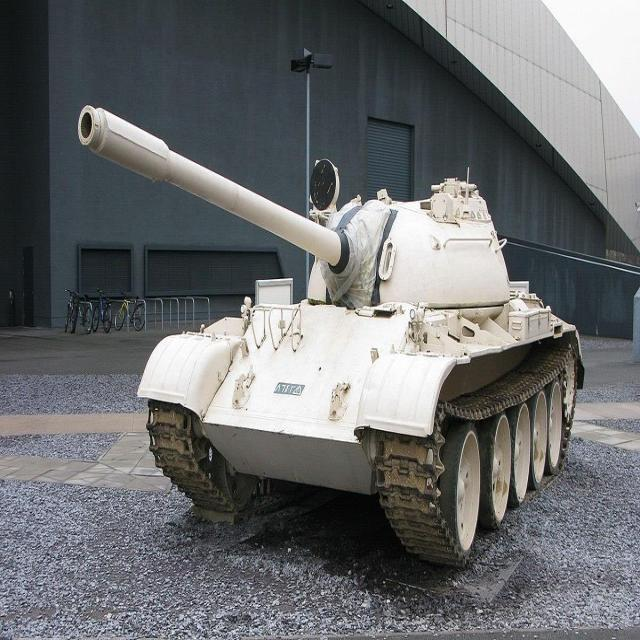Tanks: (85, 86, 600, 547)
